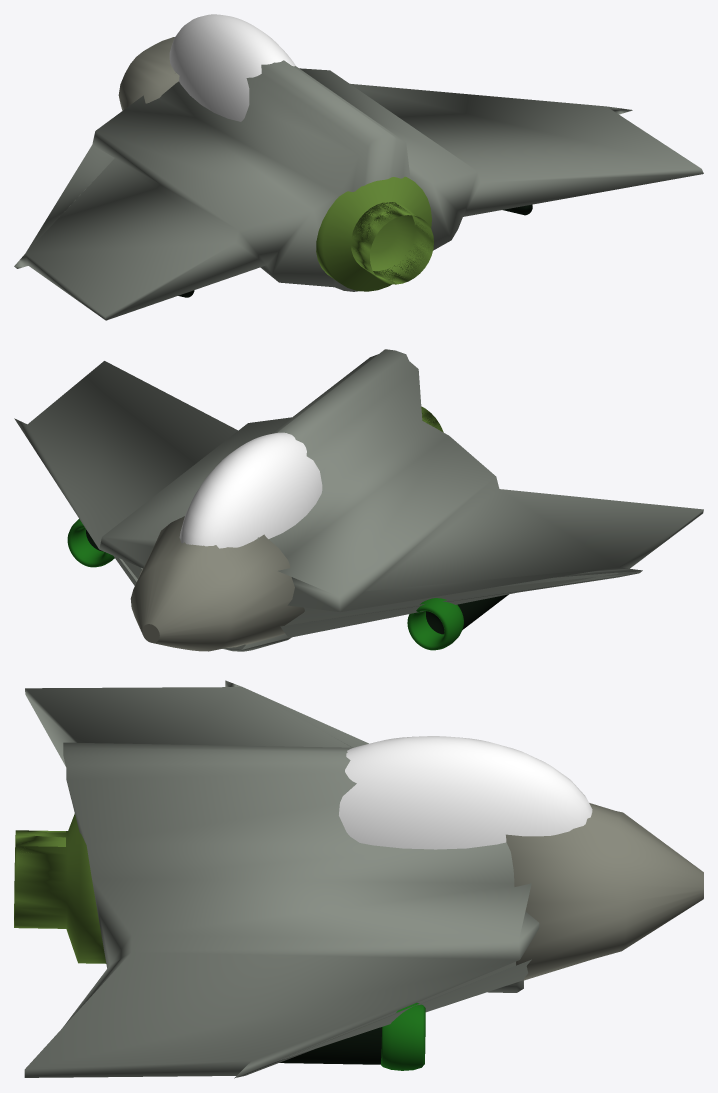
File: military_jet.glb
The picture shows the model from 3 angles, top to bottom: view 1: azimuth 30°, elevation 25°; view 2: azimuth 150°, elevation 25°; view 3: azimuth 270°, elevation 25°; orthographic projection. The views are drawn at different scales.
Parts seen in each view (by area): view 1: badan, roket, Sphere, pucuk pesawat; view 2: badan, pucuk pesawat, Sphere, baling", badan baling"; view 3: badan, Sphere, pucuk pesawat, roket, baling", badan baling".
Part boxes in pixels (box(x1,y1,x2,y2)): badan: box(14, 60, 703, 320); roket: box(316, 176, 433, 291); Sphere: box(169, 14, 295, 121); pucuk pesawat: box(118, 37, 179, 110); badan: box(14, 349, 703, 651); pucuk pesawat: box(130, 516, 304, 651); Sphere: box(179, 432, 322, 548); baling": box(67, 519, 463, 650); badan baling": box(86, 530, 508, 634); badan: box(24, 680, 539, 1078); Sphere: box(339, 736, 592, 849); pucuk pesawat: box(506, 803, 703, 980); roket: box(14, 813, 106, 963); baling": box(381, 1003, 425, 1070); badan baling": box(279, 1027, 381, 1064).
Bounding box in the file's own units: 10.54 × 2.87 × 7.67.
